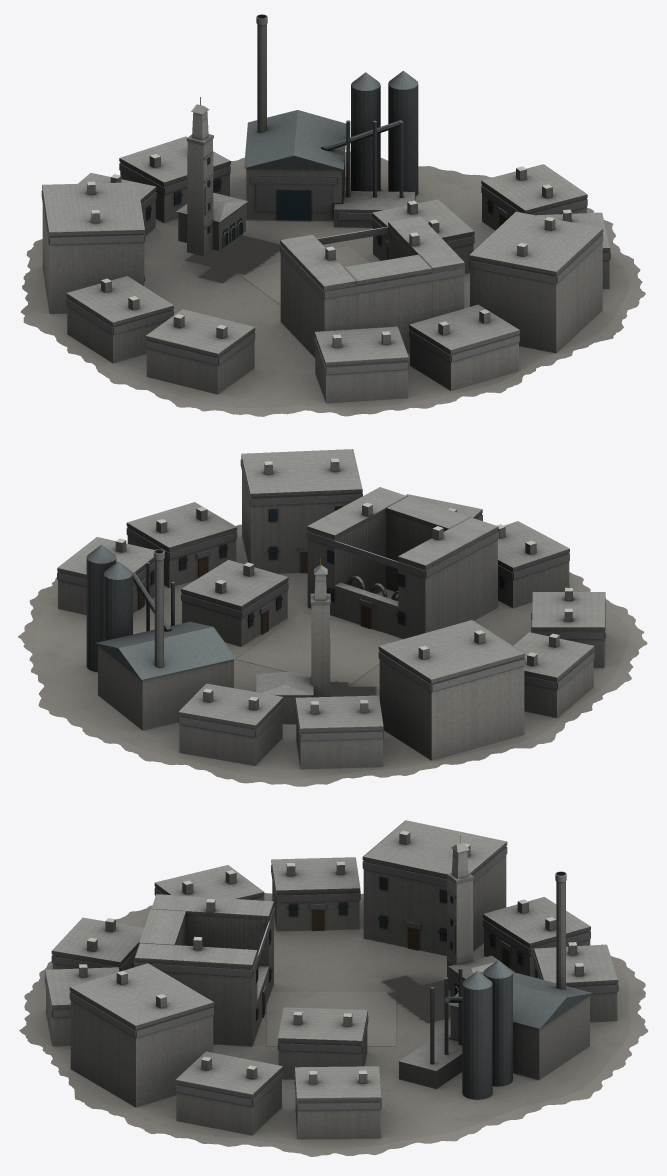
The model's file is modern-town-medium-a-maghreb.glb.
3 views of the same model, one above another, from view 1: azimuth 30°, elevation 25°; view 2: azimuth 150°, elevation 25°; view 3: azimuth 270°, elevation 25° (orthographic).
Visible parts, largest first — view 1: LOD0; view 2: LOD0; view 3: LOD0.
Boxes of the visible parts, left/top/right/bottom form: LOD0: left=20, top=14, right=645, bottom=416; LOD0: left=18, top=449, right=647, bottom=786; LOD0: left=19, top=820, right=648, bottom=1156.
Size of what is drawn, in the model's own units: 5.96 by 1.77 by 5.91.
Materials: 3 (3 with a texture image).
